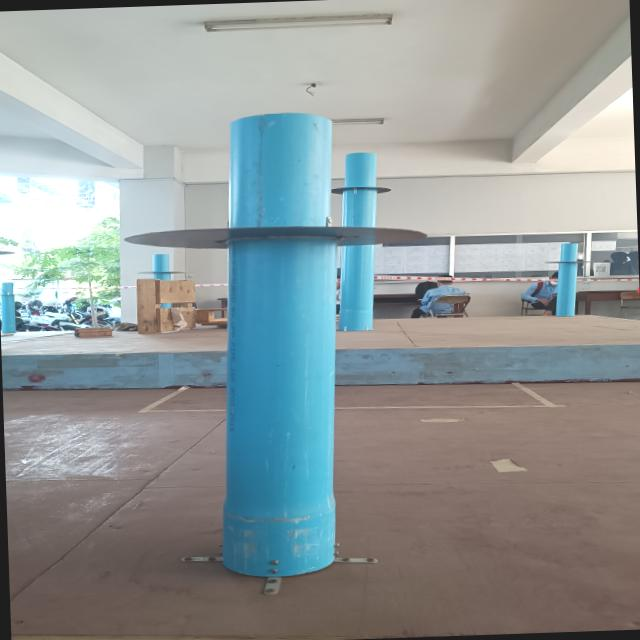pole: (76, 91, 474, 392)
